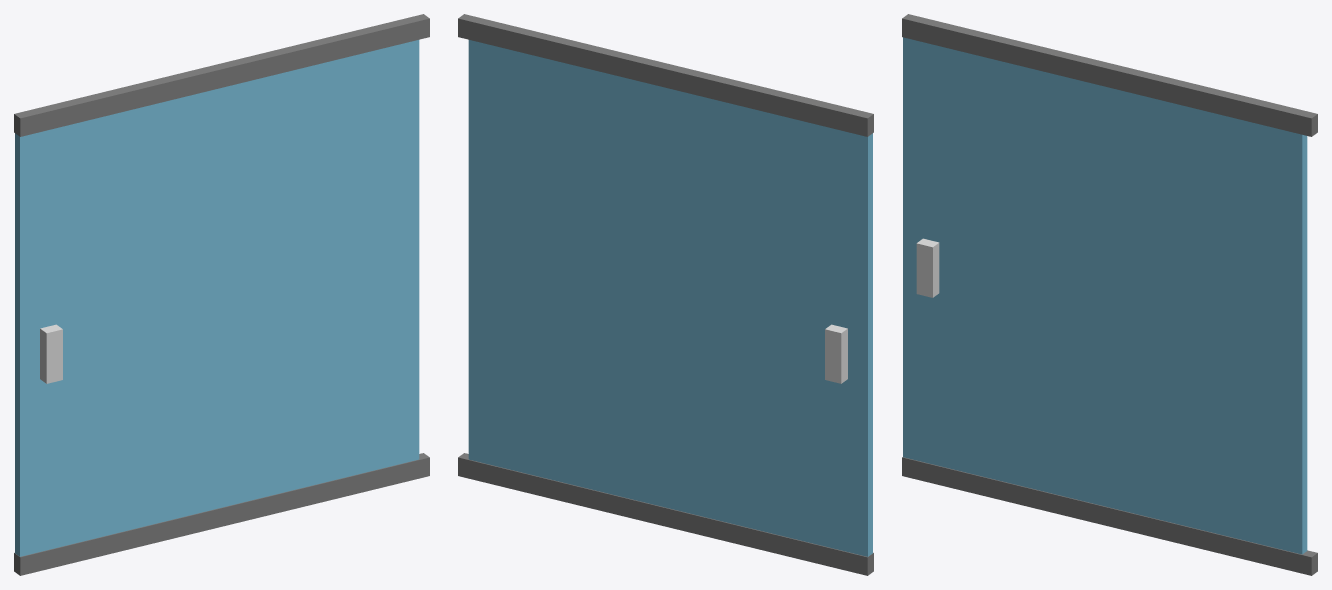
The model's file is door-glass2.fbx.
3 views of the same model, side by side, from view 1: azimuth 30°, elevation 25°; view 2: azimuth 150°, elevation 25°; view 3: azimuth 330°, elevation 25° (orthographic).
Parts seen in each view (by area): view 1: DoorGlass.002; view 2: DoorGlass.002; view 3: DoorGlass.002.
Part boxes in pixels (x1,y1,x2,y2): DoorGlass.002: (14, 14, 429, 575); DoorGlass.002: (458, 14, 873, 575); DoorGlass.002: (902, 14, 1317, 575).
Size of the model in its own units: 445 by 475 by 34.04.
